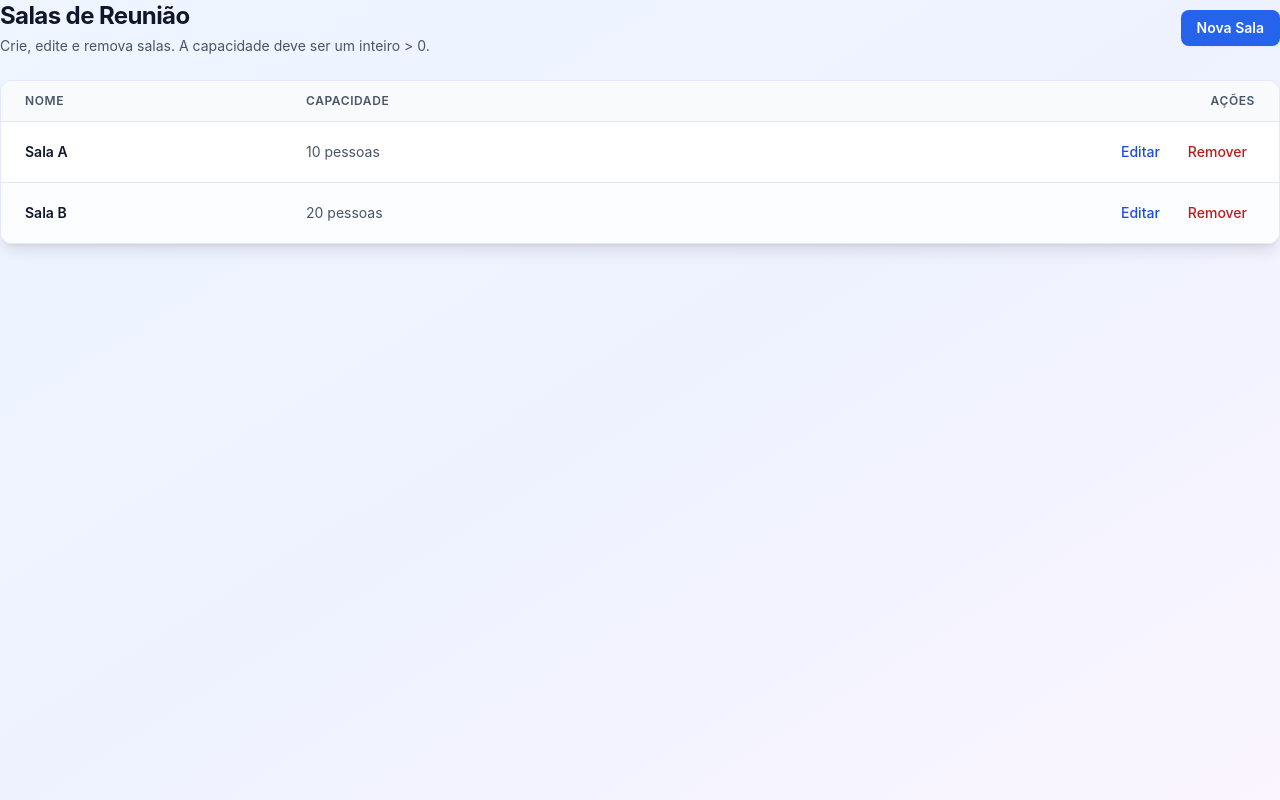
Test case: Testes Frontend - Gerenciar Salas › Deve cancelar criação de sala
What coordinates should you click on to do the following:
click the button "Nova Sala"
I would click on:
 (1230, 28)
Its box is [1181,10,1279,46].
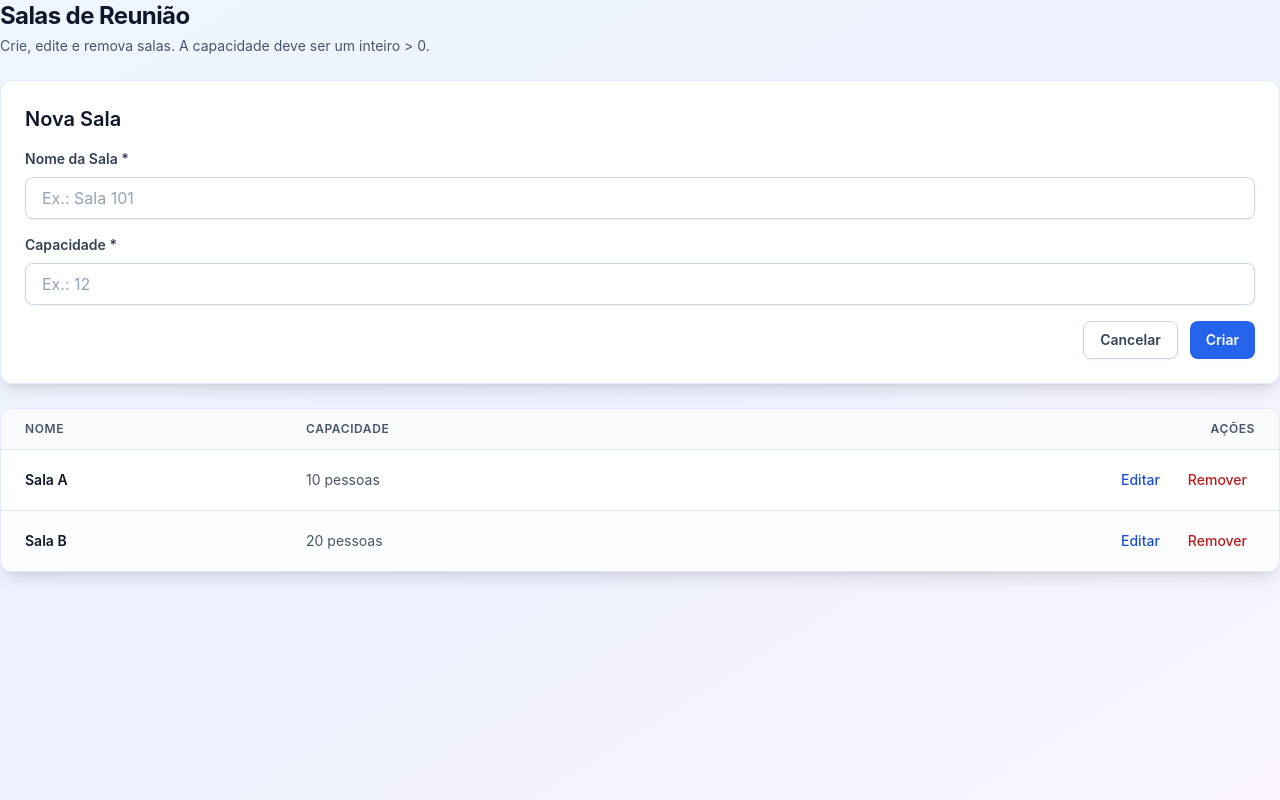
What coordinates should you click on to do the following:
click the button "Cancelar"
I would click on:
 (1130, 340)
Its box is [1083,321,1178,359].
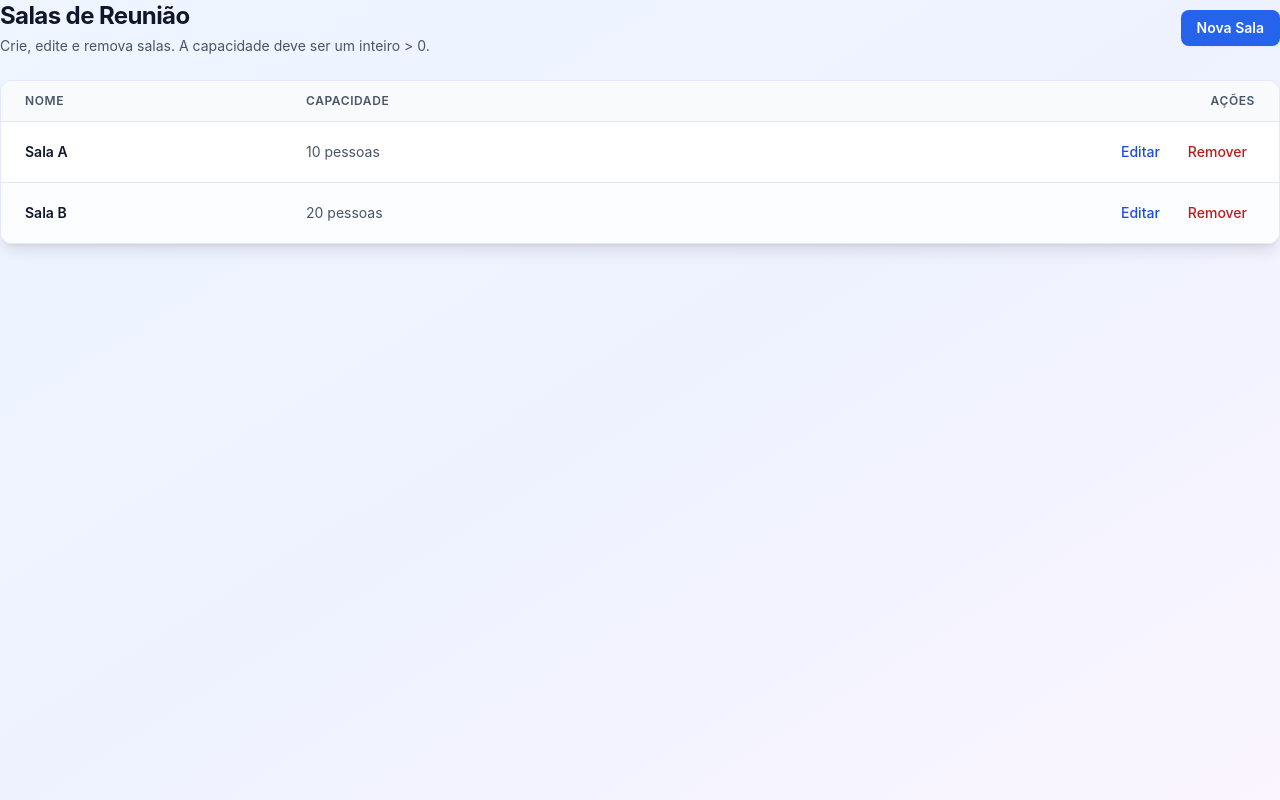
expect the label labelled "Nome da Sala" is gone: met
